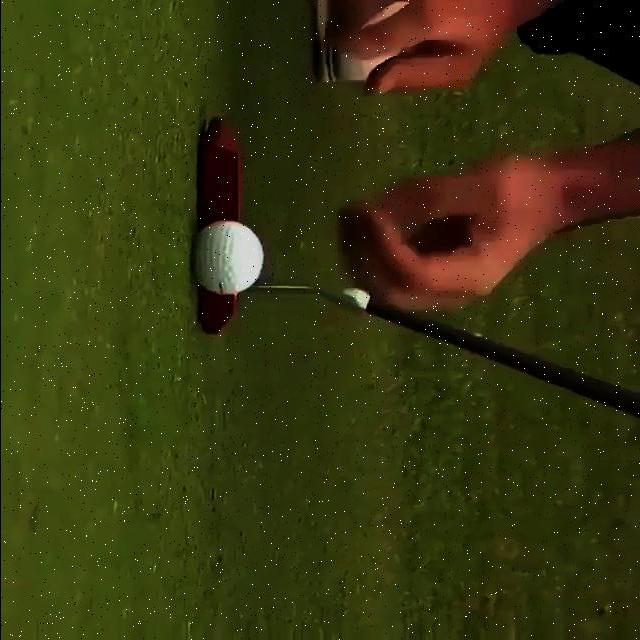golf ball: (192, 221, 263, 295)
golf club-handle: (195, 116, 640, 417)
golf club-head: (195, 116, 241, 334)
